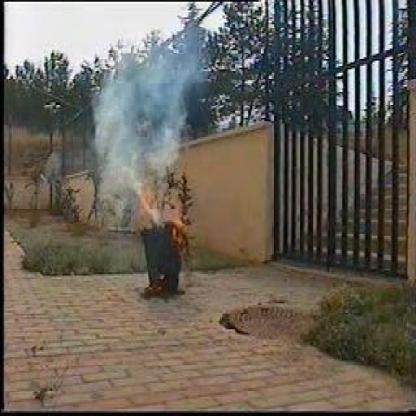-: (93, 67, 193, 172)
foggia-v2-map80-epoch100 - v1 4323: (168, 212, 184, 242)
